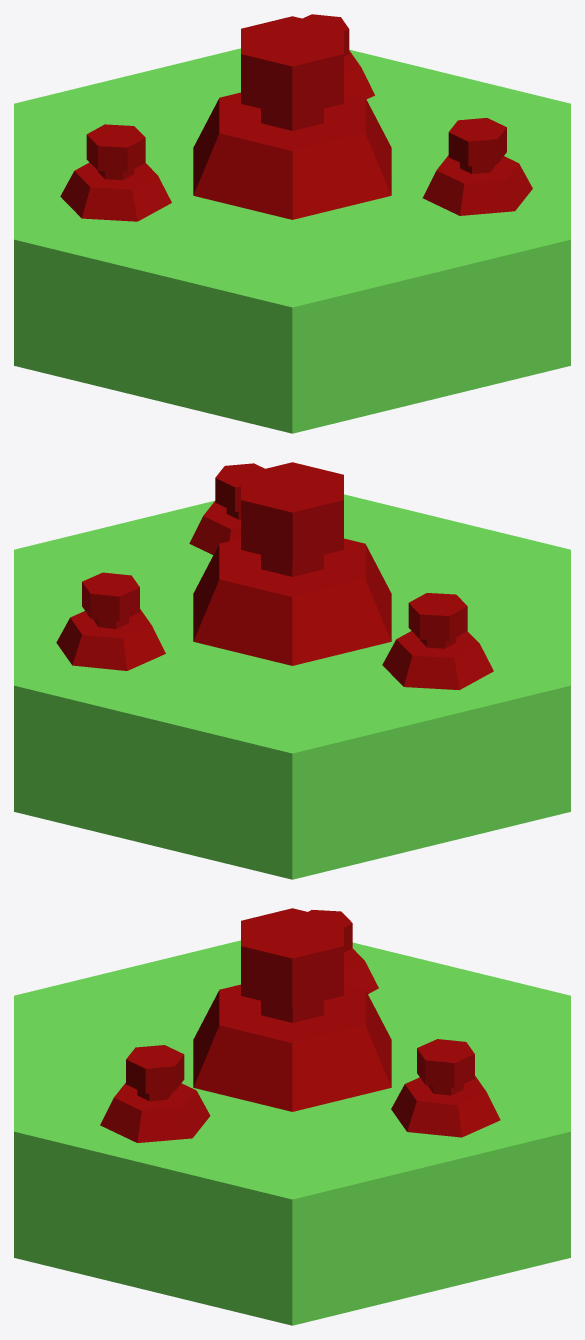
Rendered from lookout.glb.
3 renders of one model, top to bottom at view 1: azimuth 30°, elevation 25°; view 2: azimuth 150°, elevation 25°; view 3: azimuth 270°, elevation 25°, orthographic.
Parts seen in each view (by area): view 1: BaseHex.004; view 2: BaseHex.004; view 3: BaseHex.004.
Boxes of the visible parts, x1,y1,x2,y2 form: BaseHex.004: (14, 14, 570, 433); BaseHex.004: (14, 462, 570, 879); BaseHex.004: (14, 908, 570, 1325).
Size of the model in its own units: 1.15 by 0.508 by 1.
